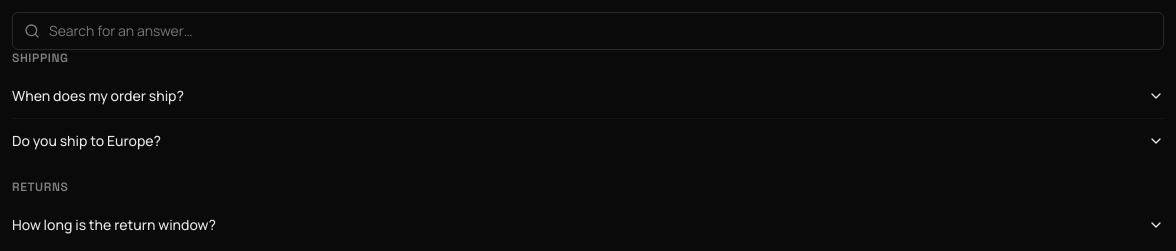
Scenario: FaqSearch + FaqList › typing "europe" filters
Type "europe" into the field labelled "Search for an answer…" at [588, 31], box [12,12,1164,50]
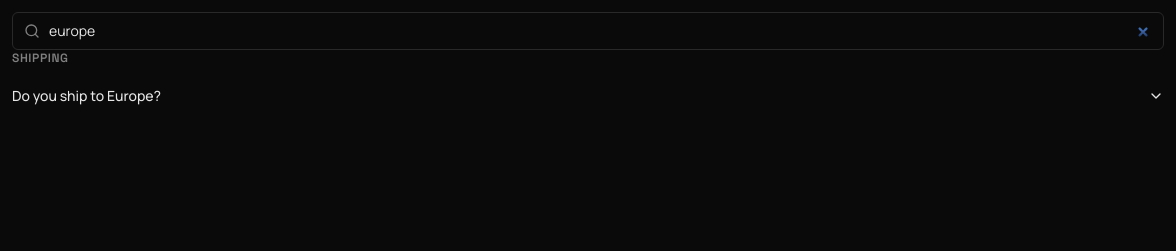
Expected: the text "Do you ship to Europe?" is shown, [12,86,161,106]
Now the button "When does my order ship" is gone
